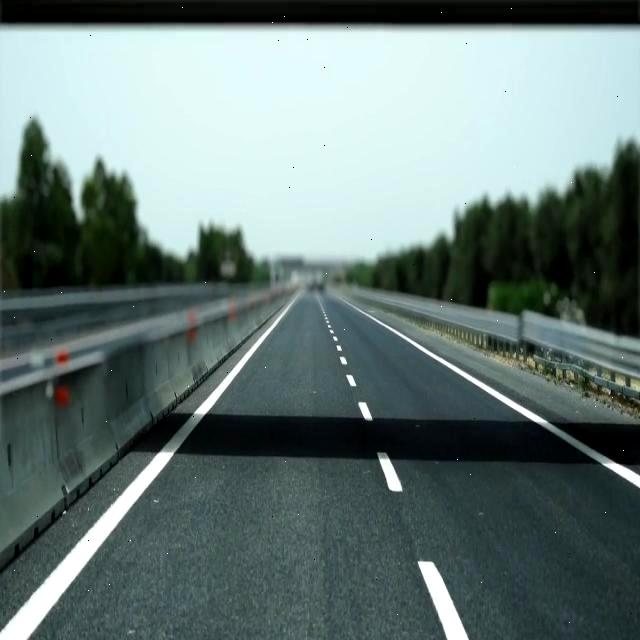lane: (0, 292, 299, 640), (342, 301, 640, 488), (419, 561, 469, 639), (378, 452, 401, 492)
road: (30, 293, 639, 639), (0, 330, 263, 626)
